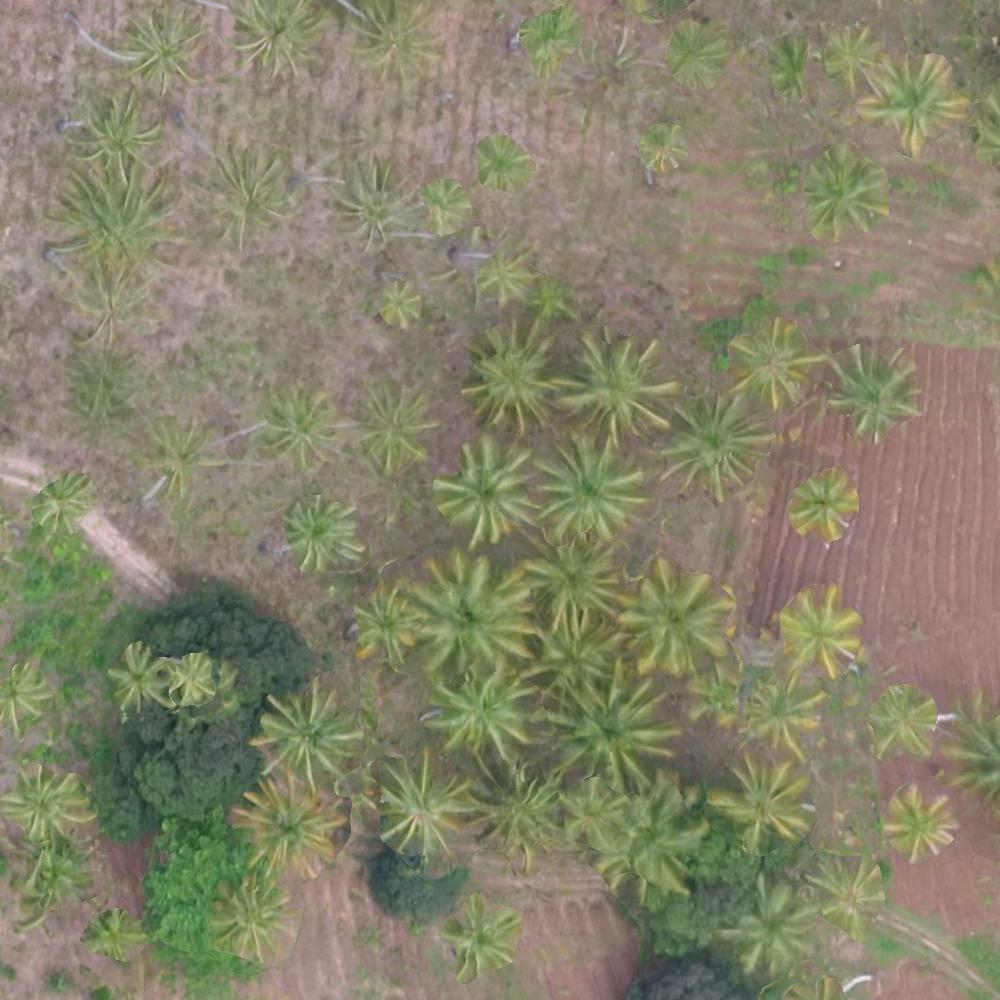Palm: (403, 555, 530, 668), (559, 332, 677, 441), (55, 177, 175, 281), (563, 674, 680, 780), (619, 564, 726, 676), (535, 431, 646, 538), (428, 665, 545, 763), (463, 327, 562, 431), (437, 441, 537, 541), (662, 394, 763, 492), (468, 763, 566, 860), (237, 778, 335, 874), (257, 678, 355, 774), (375, 751, 471, 849), (864, 51, 961, 147), (518, 534, 618, 624), (714, 758, 814, 843), (833, 342, 922, 435), (347, 1, 440, 88), (727, 878, 813, 971), (776, 585, 861, 679), (122, 8, 211, 97), (196, 146, 282, 238), (328, 155, 415, 243), (732, 322, 821, 406), (798, 149, 890, 230), (228, 1, 321, 79), (72, 94, 161, 175), (210, 877, 290, 961), (133, 419, 217, 498), (281, 496, 365, 575), (351, 388, 431, 467), (4, 764, 84, 839), (446, 897, 521, 977), (811, 852, 883, 934), (257, 390, 334, 465), (882, 788, 955, 864), (110, 643, 183, 713), (872, 686, 944, 756), (351, 588, 417, 662), (560, 777, 628, 844), (793, 473, 862, 538), (820, 17, 884, 82), (661, 21, 729, 82), (474, 248, 540, 301), (31, 477, 94, 532), (519, 13, 578, 65), (417, 177, 469, 233), (478, 136, 528, 191), (174, 647, 221, 702), (636, 123, 685, 169), (375, 278, 424, 324)
